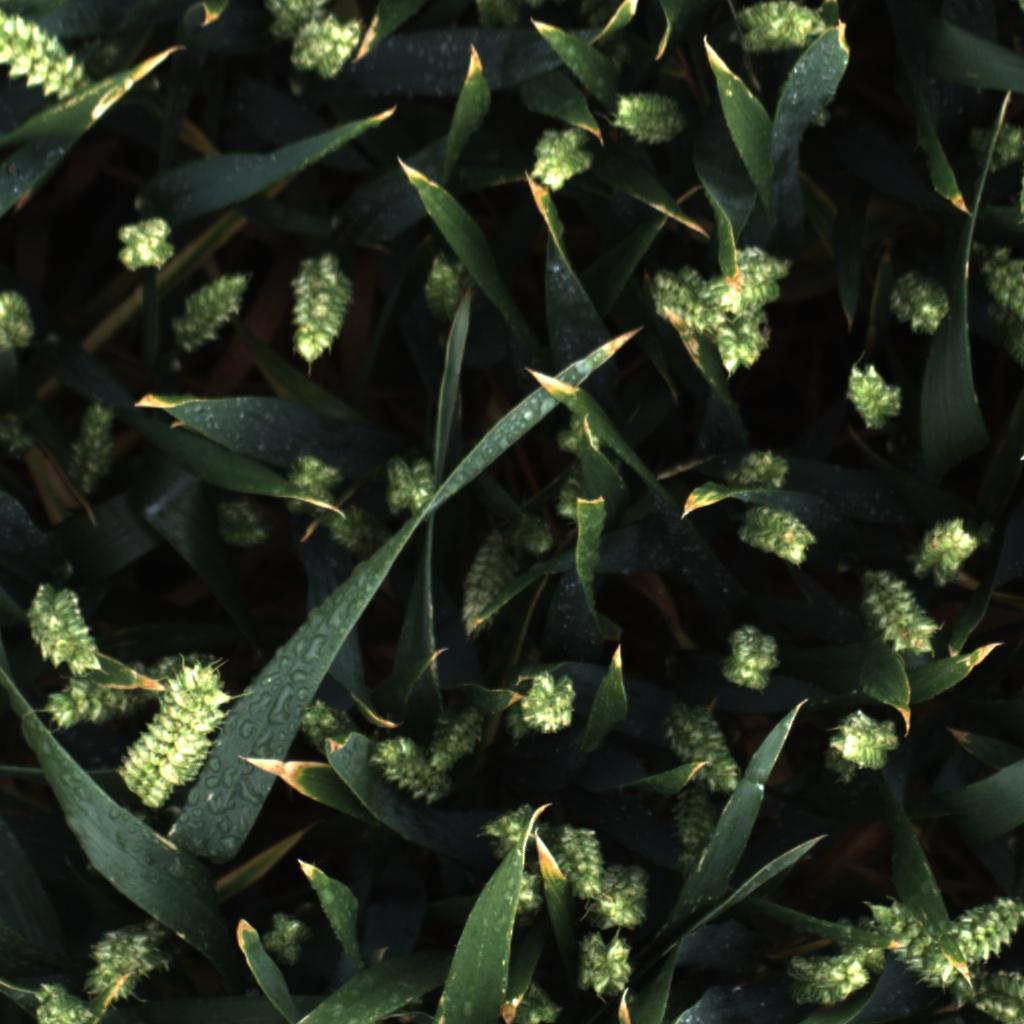0-0: (120, 664, 228, 807), (279, 249, 358, 371), (0, 0, 91, 101), (866, 891, 957, 987), (21, 576, 109, 674), (657, 702, 749, 791), (853, 573, 939, 661), (456, 524, 523, 636), (363, 731, 453, 813), (167, 272, 254, 355), (724, 0, 831, 64), (832, 354, 915, 435), (730, 500, 826, 570), (36, 676, 137, 740), (605, 84, 696, 155), (89, 918, 166, 1000), (644, 264, 727, 339), (955, 886, 1024, 975), (414, 245, 487, 327), (287, 11, 370, 83), (62, 395, 123, 492), (522, 120, 599, 196), (907, 509, 983, 586), (820, 704, 902, 774), (779, 945, 870, 1006), (581, 858, 655, 933), (712, 621, 785, 697), (719, 243, 796, 314), (706, 309, 777, 381), (422, 697, 489, 773), (568, 930, 639, 1001), (375, 450, 446, 520), (550, 818, 606, 903), (887, 269, 958, 336), (130, 645, 233, 691), (662, 783, 719, 864), (515, 669, 581, 738), (542, 465, 615, 527), (110, 215, 184, 276), (294, 693, 361, 760), (278, 450, 342, 518), (322, 505, 393, 565), (726, 443, 802, 498), (501, 500, 562, 567), (981, 243, 1024, 338), (258, 903, 317, 972), (480, 792, 543, 855), (207, 498, 273, 553), (962, 114, 1024, 171), (260, 0, 338, 41), (25, 979, 94, 1024), (494, 979, 561, 1024), (503, 864, 546, 931), (542, 418, 605, 461), (0, 287, 40, 354), (989, 323, 1024, 369)
